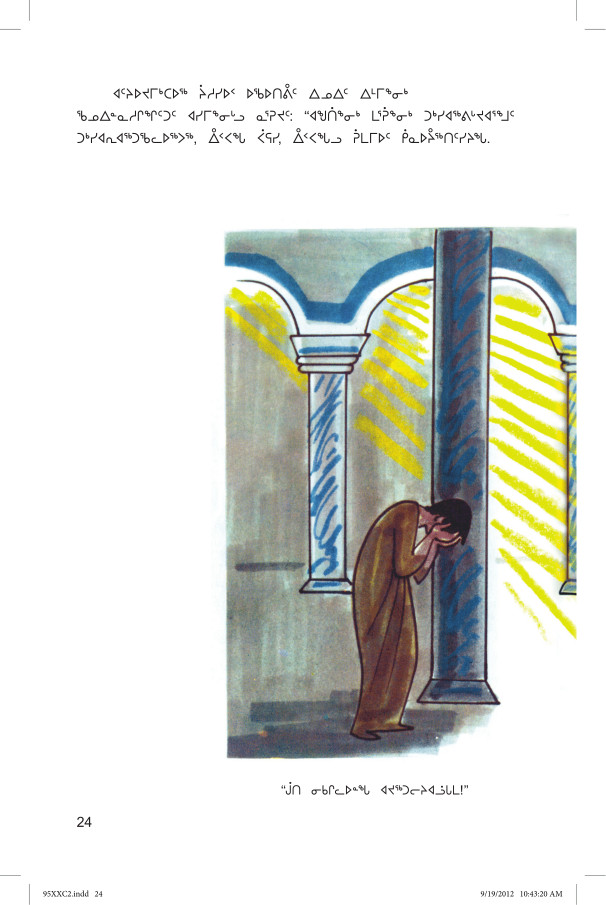inuktitut: (66, 76, 524, 153), (272, 774, 478, 802)
